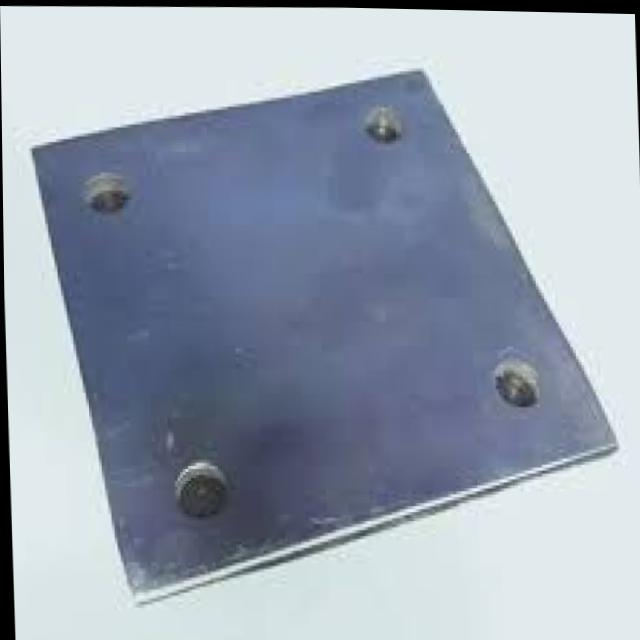holes: (172, 458, 228, 516), (493, 356, 541, 404), (81, 168, 129, 216), (364, 99, 403, 138)
